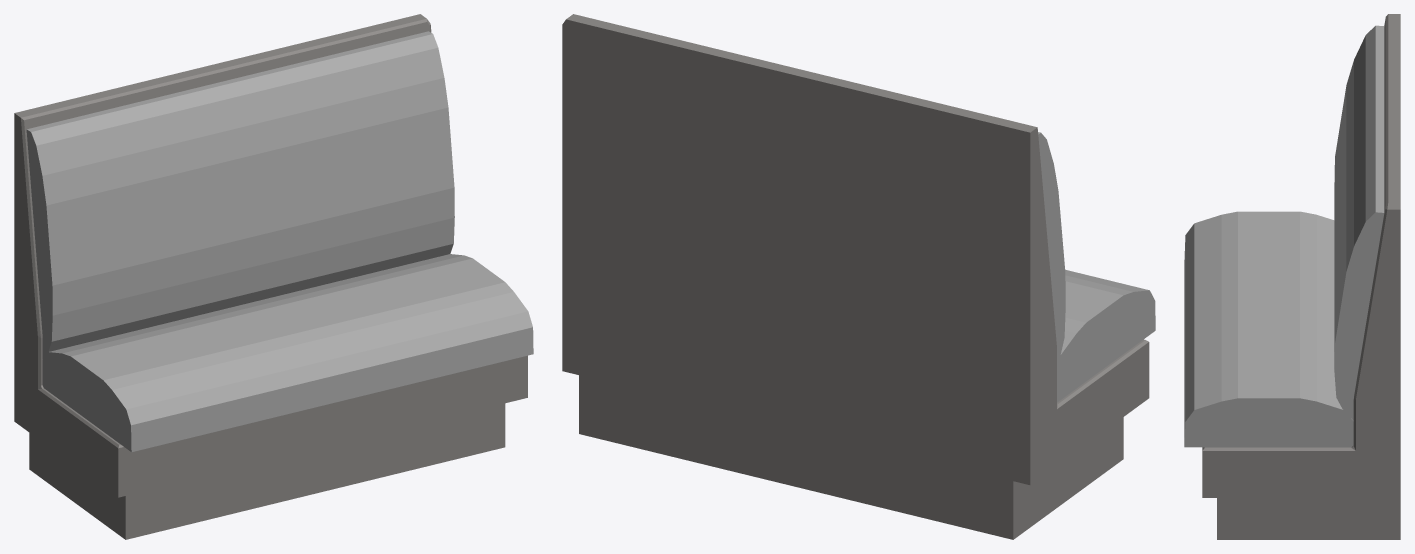
Rendered from SM_Props_Interior_Generic_Hospital_Bench.fbx.
3 renders of one model, left to right at view 1: azimuth 30°, elevation 25°; view 2: azimuth 150°, elevation 25°; view 3: azimuth 270°, elevation 25°, orthographic. The views are drawn at different scales.
Parts seen in each view (by area): view 1: SM_Props_Interior_Generic_Hospital_Bench; view 2: SM_Props_Interior_Generic_Hospital_Bench; view 3: SM_Props_Interior_Generic_Hospital_Bench.
Boxes of the visible parts, x1=… form: SM_Props_Interior_Generic_Hospital_Bench: x1=14, y1=14, x2=533, y2=539; SM_Props_Interior_Generic_Hospital_Bench: x1=562, y1=14, x2=1155, y2=539; SM_Props_Interior_Generic_Hospital_Bench: x1=1184, y1=14, x2=1400, y2=539.
Bounding box in the file's own units: 125 × 105 × 60.
